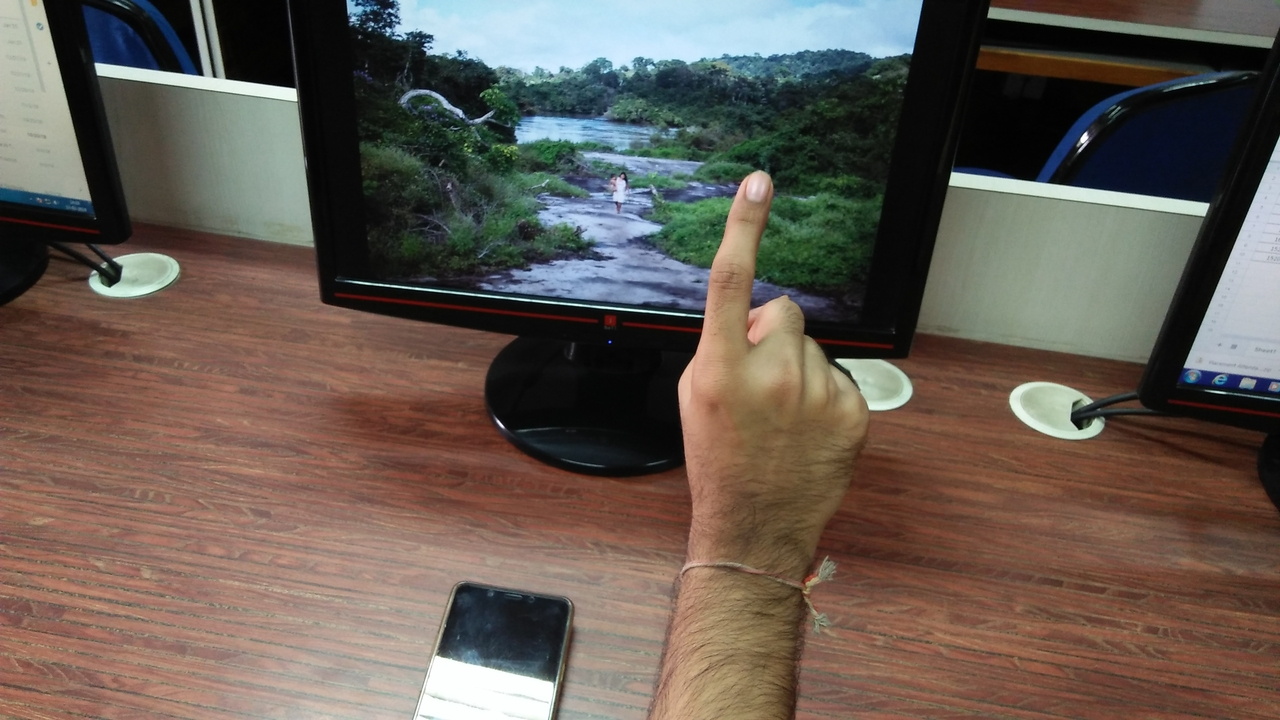fingertip: (726, 158, 778, 212)
